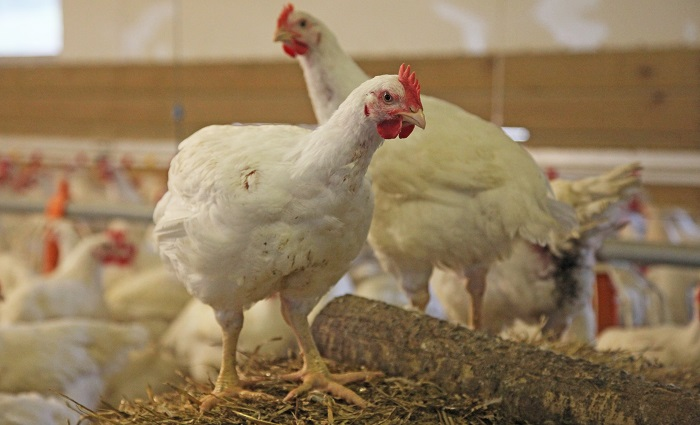Healthy: (315, 50, 450, 171), (256, 0, 370, 94)
